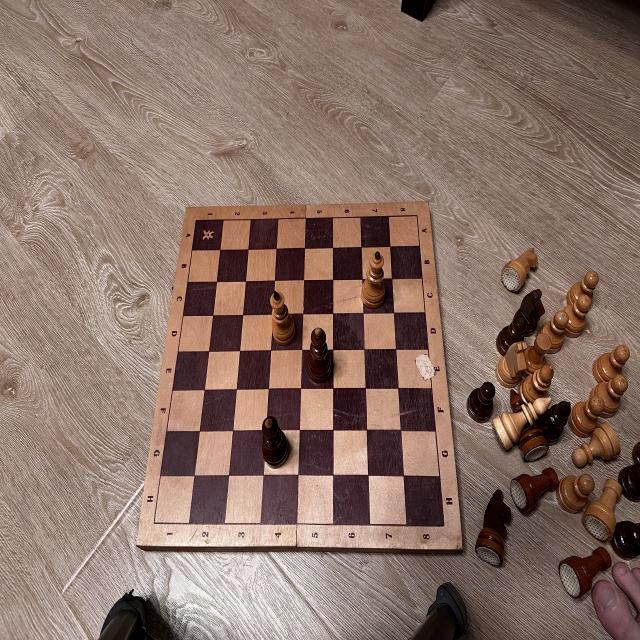chess-table-corners: (412, 210, 422, 223), (149, 518, 159, 528), (192, 214, 200, 225), (440, 520, 447, 532)
